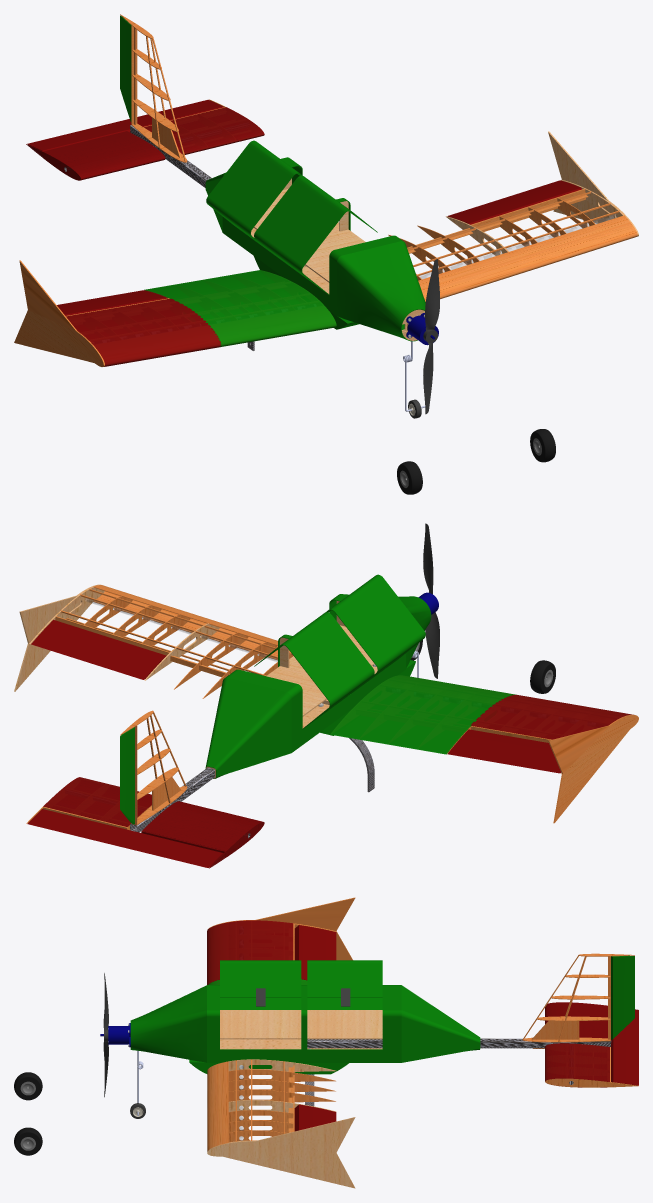
File: dbf_plane.glb
The picture shows the model from 3 angles, top to bottom: view 1: azimuth 30°, elevation 25°; view 2: azimuth 150°, elevation 25°; view 3: azimuth 270°, elevation 25°; orthographic projection. The views are drawn at different scales.
Parts seen in each view (by area): view 1: FuselageShell25-26-1, MirrorWingRibs25-26_(NACA_4412)1-2, WingRibs25-26_(NACA_4412)-1, TailHorizontalRibs25-26-1, TailVerticalRibs25-26-1, Firewalls25-26-1, Elevator25-26-1, ControlSurfaces25-26_(for_NACA_4412)-1, Propeller25-26-1, MirrorFlaps25-26_(for_NACA_4412)-2, Rudder25-26-1, WingSpar25-26_(for_NACA_4412)-1 (+1 smaller); view 2: FuselageShell25-26-1, MirrorWingRibs25-26_(NACA_4412)1-2, WingRibs25-26_(NACA_4412)-1, TailHorizontalRibs25-26-1, ControlSurfaces25-26_(for_NACA_4412)-1, Elevator25-26-1, MirrorFlaps25-26_(for_NACA_4412)-2, TailVerticalRibs25-26-1, Firewalls25-26-1, Rudder25-26-1, Propeller25-26-1, TailBoom25-26-1 (+2 smaller); view 3: FuselageShell25-26-1, WingRibs25-26_(NACA_4412)-1, Firewalls25-26-1, MirrorWingRibs25-26_(NACA_4412)1-2, TailHorizontalRibs25-26-1, TailVerticalRibs25-26-1, Rudder25-26-1, Elevator25-26-1, TailBoom25-26-1, MirrorFlaps25-26_(for_NACA_4412)-2, ControlSurfaces25-26_(for_NACA_4412)-1, Wingbox25-26_(for_NACA_4412,_4_Degree_Dihedral)-1 (+4 smaller).
Boxes of the visible parts, <box> form: FuselageShell25-26-1: <box>205,140,425,341</box>; MirrorWingRibs25-26_(NACA_4412)1-2: <box>14,260,336,366</box>; WingRibs25-26_(NACA_4412)-1: <box>388,131,638,301</box>; TailHorizontalRibs25-26-1: <box>26,99,264,180</box>; TailVerticalRibs25-26-1: <box>120,14,187,162</box>; Firewalls25-26-1: <box>251,178,424,340</box>; Elevator25-26-1: <box>27,99,223,151</box>; ControlSurfaces25-26_(for_NACA_4412)-1: <box>447,180,581,224</box>; Propeller25-26-1: <box>423,259,439,414</box>; MirrorFlaps25-26_(for_NACA_4412)-2: <box>57,290,166,315</box>; Rudder25-26-1: <box>120,15,131,121</box>; WingSpar25-26_(for_NACA_4412)-1: <box>419,214,616,278</box>; FuselageShell25-26-1: <box>205,574,431,778</box>; MirrorWingRibs25-26_(NACA_4412)1-2: <box>330,675,638,823</box>; WingRibs25-26_(NACA_4412)-1: <box>14,584,293,698</box>; TailHorizontalRibs25-26-1: <box>26,777,264,868</box>; ControlSurfaces25-26_(for_NACA_4412)-1: <box>31,620,166,679</box>; Elevator25-26-1: <box>27,809,223,867</box>; MirrorFlaps25-26_(for_NACA_4412)-2: <box>447,729,560,773</box>; TailVerticalRibs25-26-1: <box>120,710,187,825</box>; Firewalls25-26-1: <box>206,601,377,778</box>; Rudder25-26-1: <box>120,727,134,824</box>; Propeller25-26-1: <box>423,523,439,678</box>; TailBoom25-26-1: <box>130,767,214,832</box>; FuselageShell25-26-1: <box>130,960,480,1062</box>; WingRibs25-26_(NACA_4412)-1: <box>207,1059,355,1188</box>; Firewalls25-26-1: <box>220,1010,382,1049</box>; MirrorWingRibs25-26_(NACA_4412)1-2: <box>207,897,355,984</box>; TailHorizontalRibs25-26-1: <box>545,1002,638,1087</box>; TailVerticalRibs25-26-1: <box>522,953,634,1048</box>; Rudder25-26-1: <box>611,955,634,1039</box>; Elevator25-26-1: <box>611,1010,638,1085</box>; TailBoom25-26-1: <box>307,1038,611,1048</box>; MirrorFlaps25-26_(for_NACA_4412)-2: <box>294,925,336,980</box>; ControlSurfaces25-26_(for_NACA_4412)-1: <box>294,1104,336,1131</box>; Wingbox25-26_(for_NACA_4412,_4_Degree_Dihedral)-1: <box>189,1060,348,1074</box>.
Size of the model in its own units: 1.41 by 0.505 by 1.66.
Materials: 22 (6 with a texture image).
